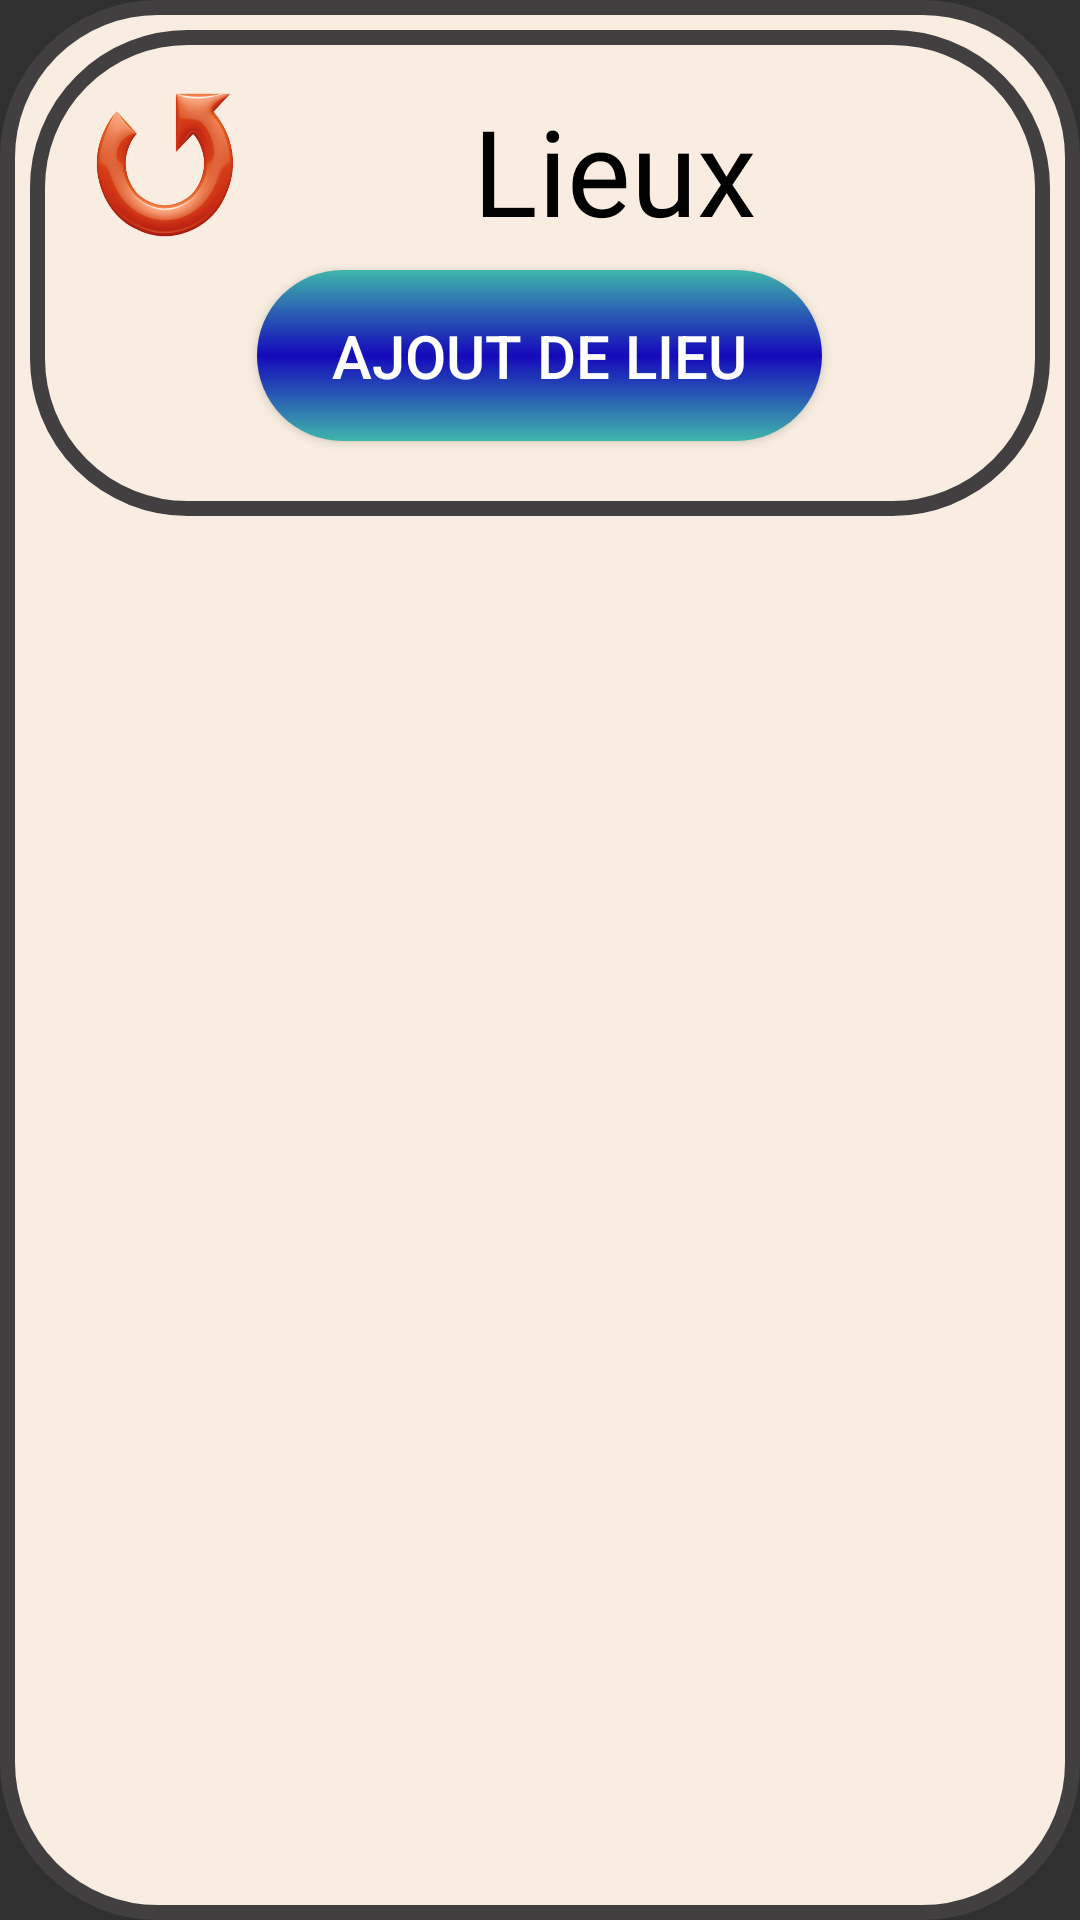

Screen size 1080px x 1920px. Icon name, then its box in pixels as (x1, y1, x2, y2):
retour: (97, 93, 233, 237)
